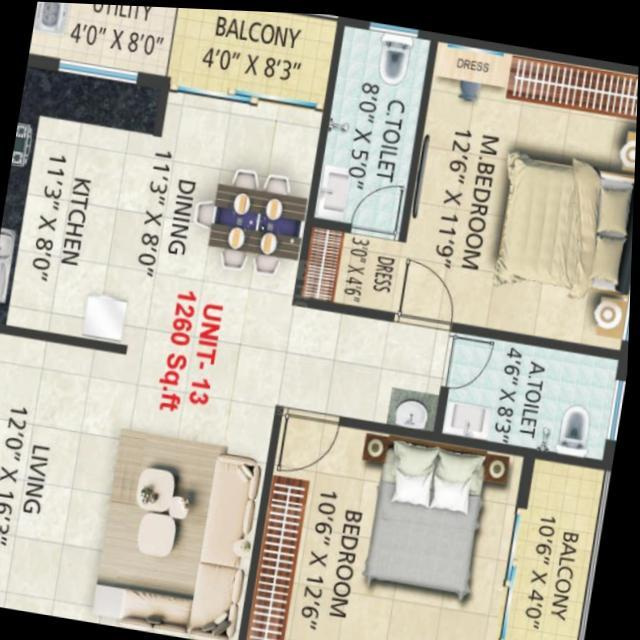Balcony-Sitout: (503, 447, 615, 640), (171, 6, 338, 110)
Bedroom: (245, 403, 542, 640)
Bedroom with Toilet: (291, 12, 639, 353)
Dining: (187, 156, 315, 276)
Dress: (297, 216, 407, 316)
Kitchen: (0, 54, 167, 352)
Living: (0, 331, 288, 640)
Toilet: (433, 315, 631, 465), (306, 12, 435, 234)
Utility: (27, 1, 182, 86)
